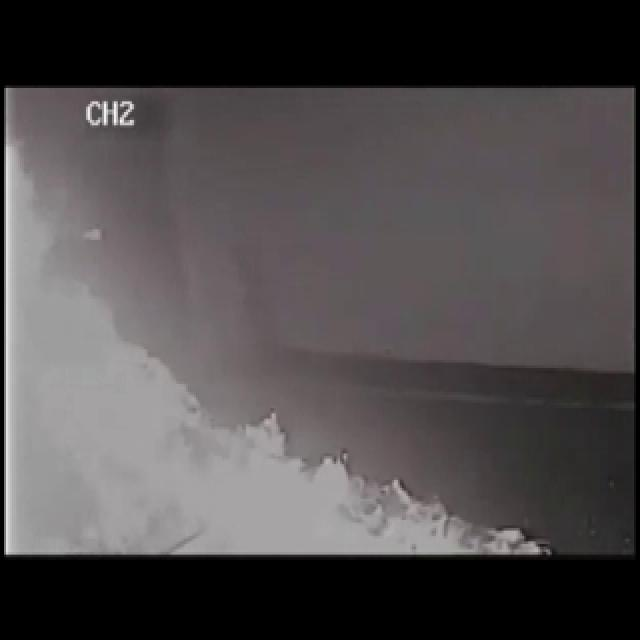arson: (6, 90, 537, 558)
